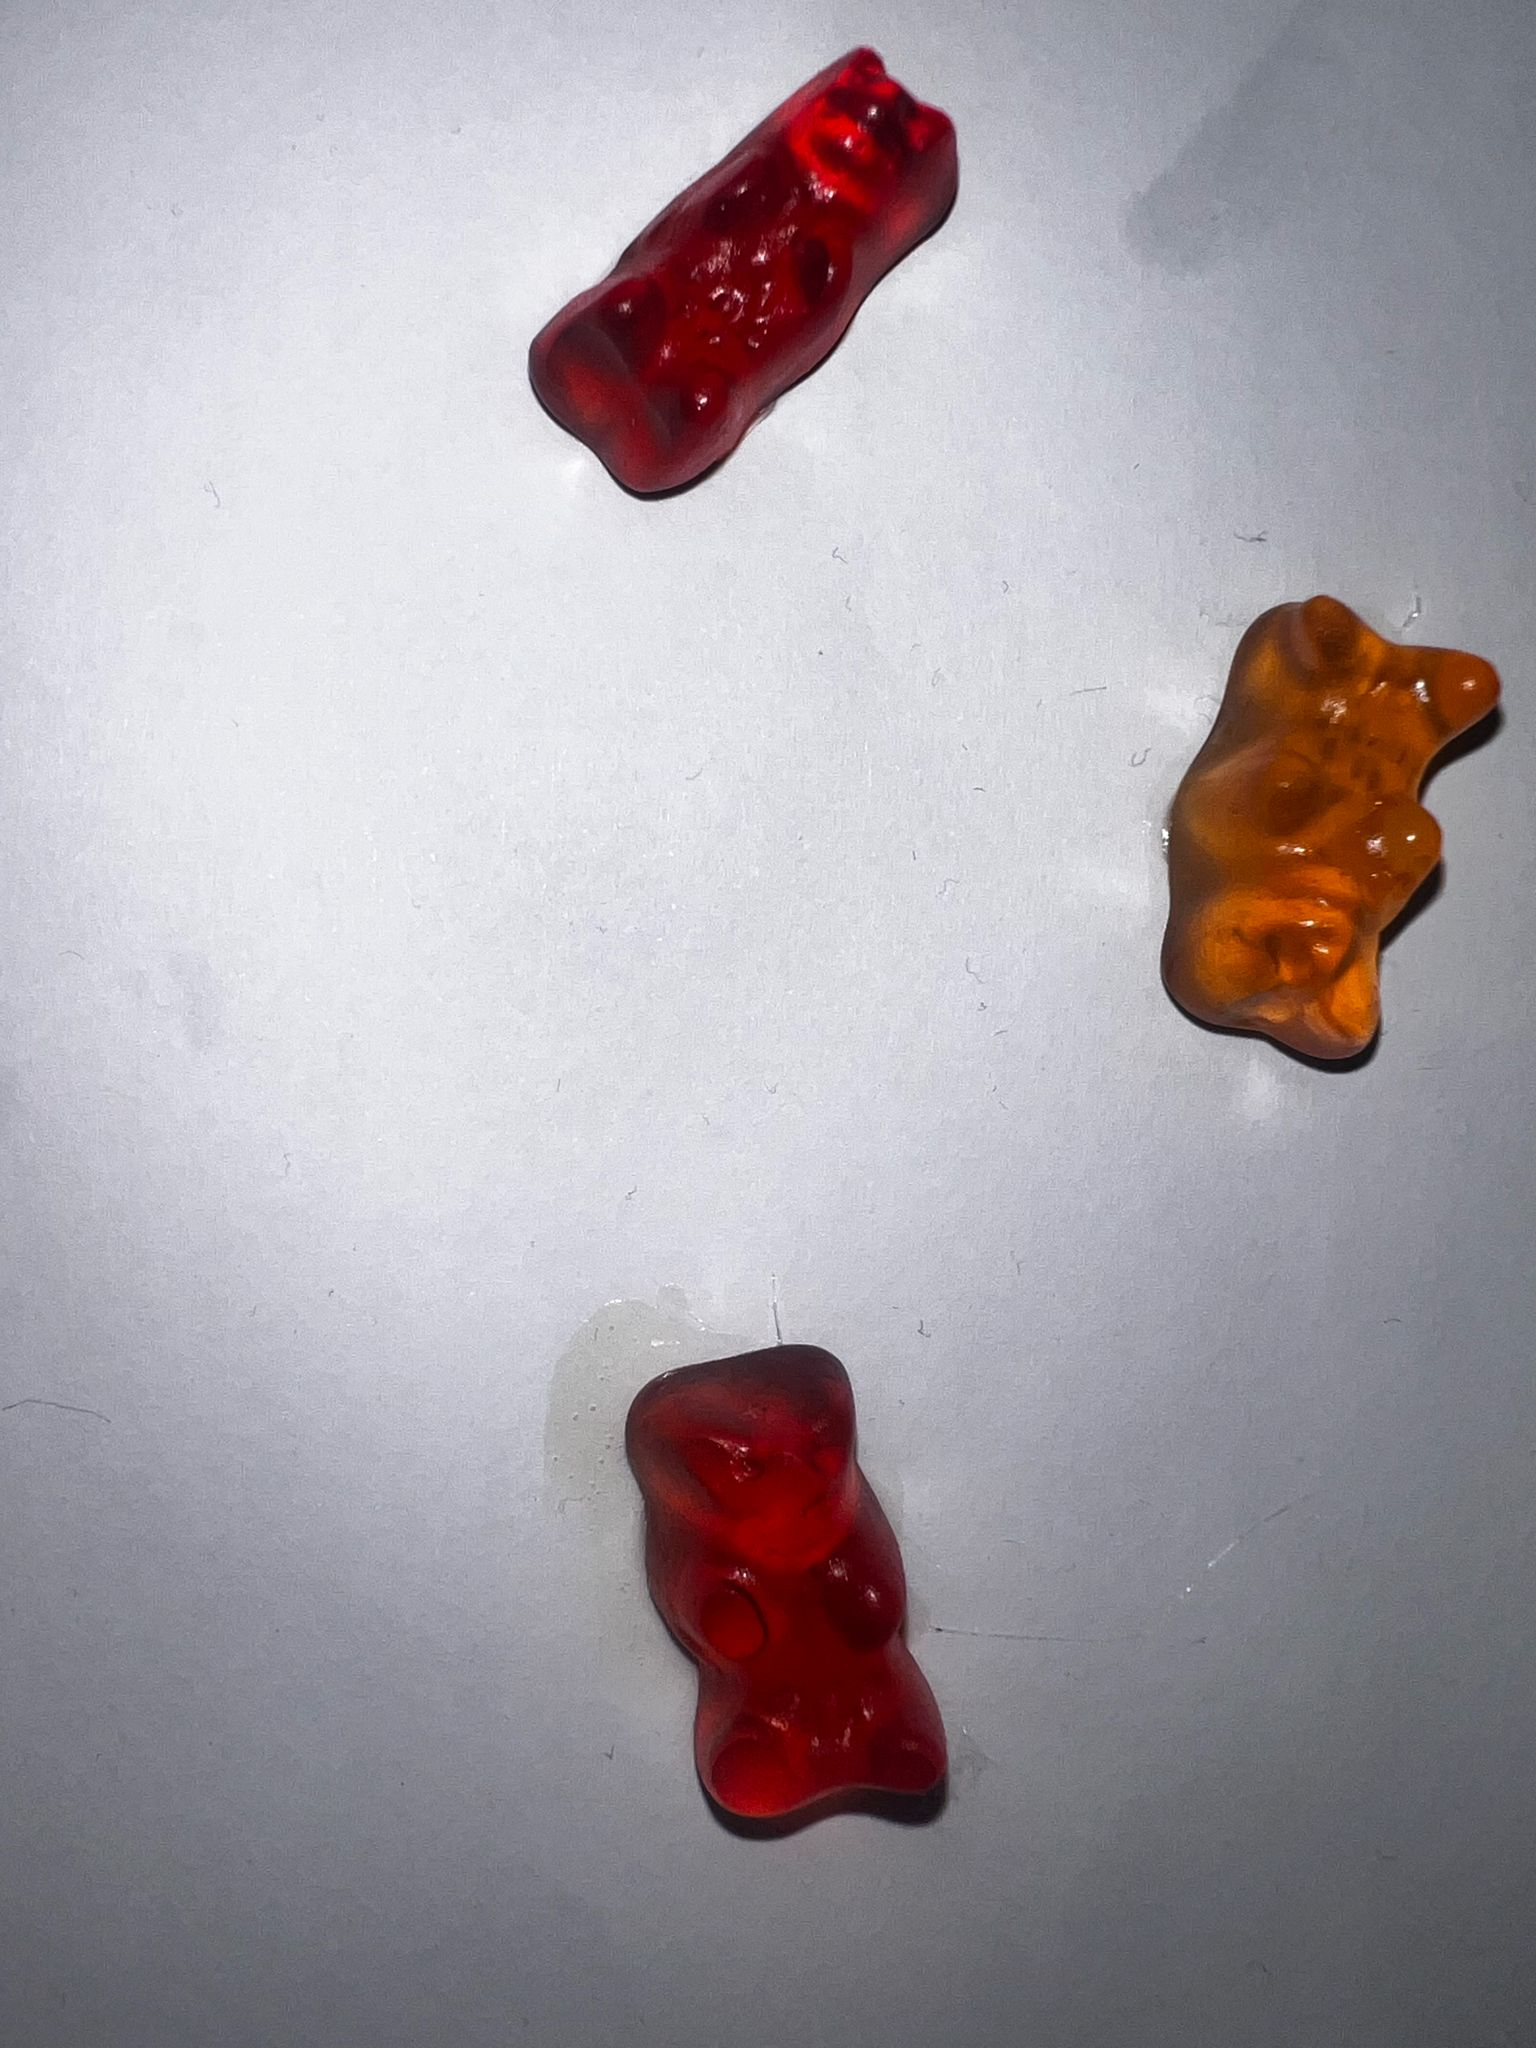gummybear: (513, 42, 971, 500), (1150, 581, 1513, 1089), (620, 1334, 955, 1843)
